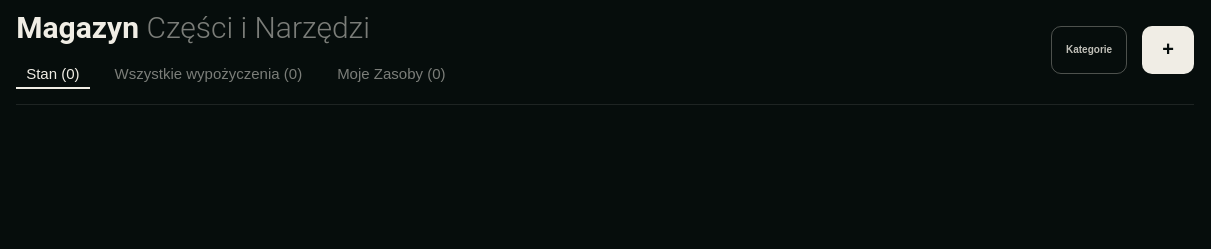
InventoryPage › przełączenie na tab Wszystkie wypożyczenia wyświetla tabelę
The image size is (1211, 249).
Step 1. Click the button "Wszystkie wypożyczenia (0)" → {"x": 208, "y": 74}, box [105,60,312,89]
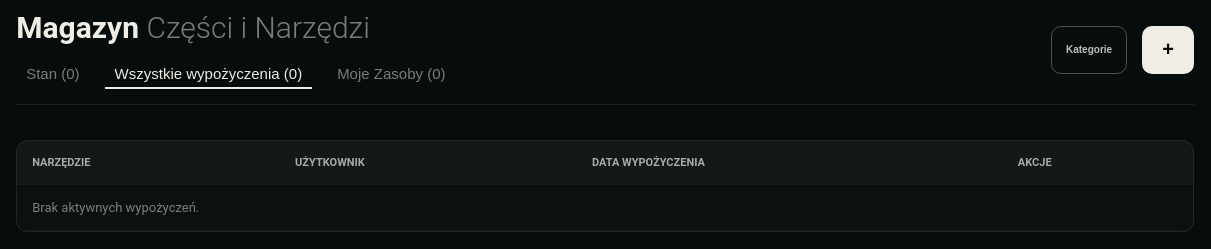
Check: the column heading "Narzędzie" is shown, box [17,141,280,184]
Check: the column heading "Użytkownik" is shown, box [280,141,577,184]
